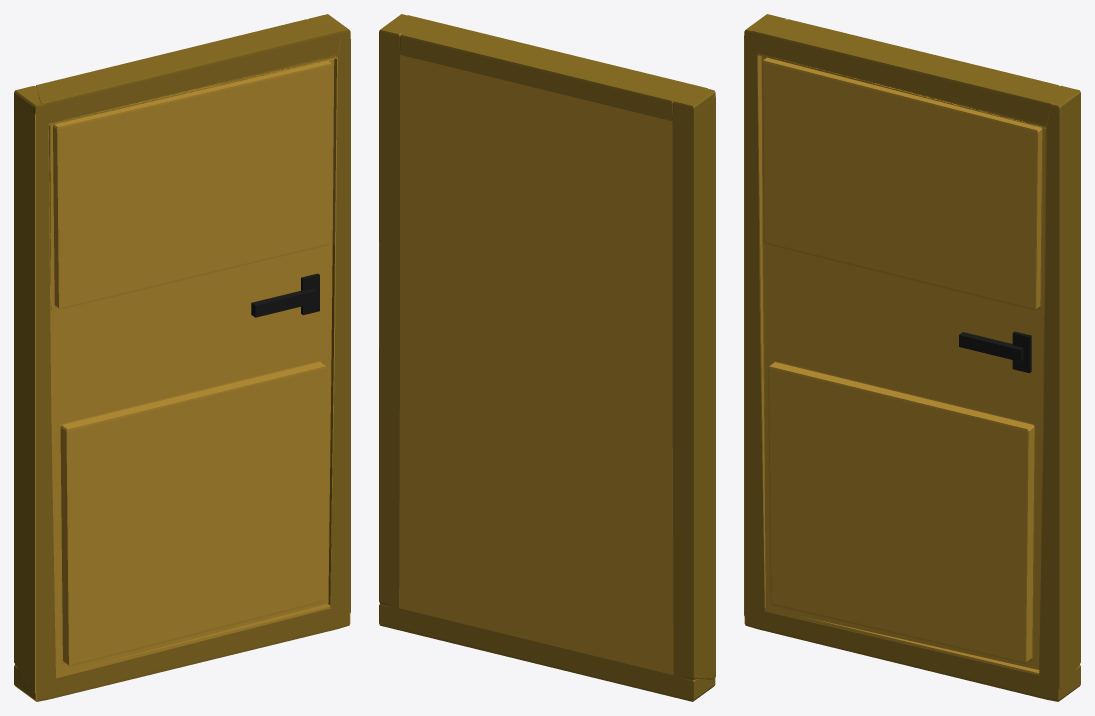
Rendered from DoorModel.fbx.
3 renders of one model, left to right at view 1: azimuth 30°, elevation 25°; view 2: azimuth 150°, elevation 25°; view 3: azimuth 330°, elevation 25°, orthographic.
Visible parts, largest first — view 1: DoorModel; view 2: DoorModel; view 3: DoorModel.
Boxes of the visible parts, x1,y1,x2,y2 form: DoorModel: [14, 14, 350, 701]; DoorModel: [379, 14, 715, 701]; DoorModel: [744, 14, 1080, 701].
Bounding box in the file's own units: 150 × 271 × 20.82.
